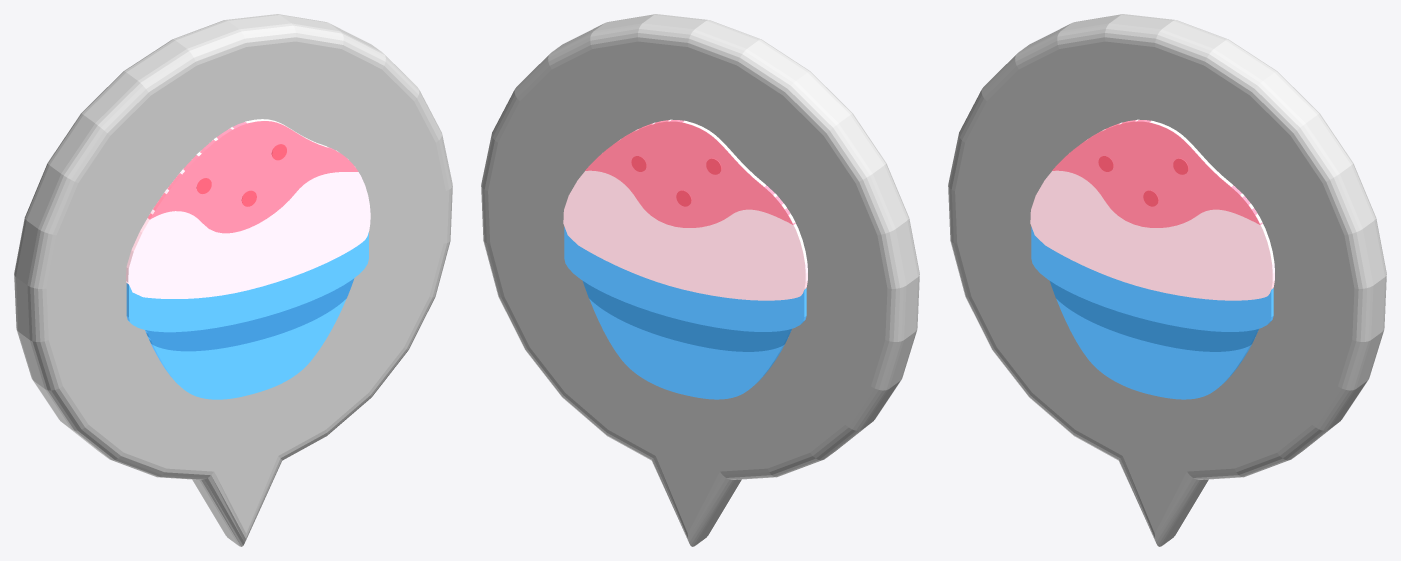
File: shaved_ice.glb
The picture shows the model from 3 angles, left to right: view 1: azimuth 30°, elevation 25°; view 2: azimuth 150°, elevation 25°; view 3: azimuth 330°, elevation 25°; orthographic projection.
Visible parts, largest first — view 1: EmotionBubble; view 2: EmotionBubble; view 3: EmotionBubble.
Part boxes in pixels (x1,y1,x2,y2): EmotionBubble: [14, 14, 452, 546]; EmotionBubble: [481, 14, 919, 546]; EmotionBubble: [948, 14, 1386, 546].
Size of the model in its own units: 5.29 by 6.16 by 0.712.
